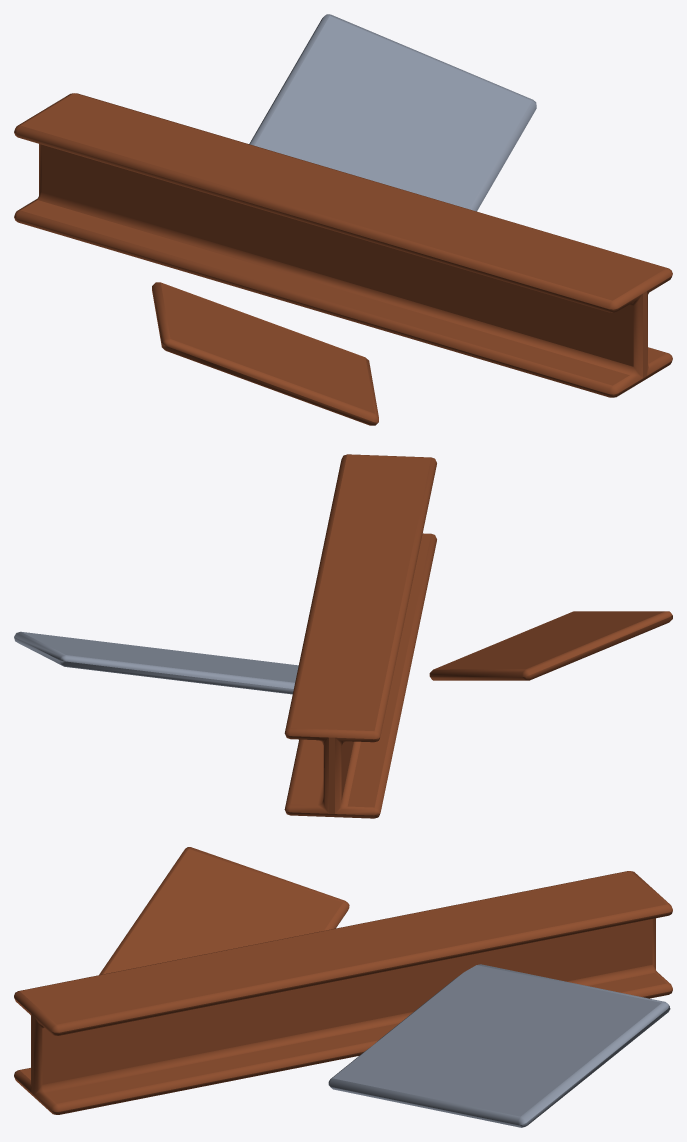
File: schmutz_schrott_1.fbx
3 renders of one model, top to bottom at view 1: azimuth 30°, elevation 25°; view 2: azimuth 150°, elevation 25°; view 3: azimuth 270°, elevation 25°, orthographic. The views are drawn at different scales.
Parts seen in each view (by area): view 1: schmutz_schrott_1_Koerper; view 2: schmutz_schrott_1_Koerper; view 3: schmutz_schrott_1_Koerper.
Part boxes in pixels (left/top/right/bottom): schmutz_schrott_1_Koerper: left=14, top=14, right=672, bottom=425; schmutz_schrott_1_Koerper: left=14, top=454, right=672, bottom=818; schmutz_schrott_1_Koerper: left=14, top=847, right=672, bottom=1127.
Bounding box in the file's own units: 0.9538 × 0.2381 × 1.06.
